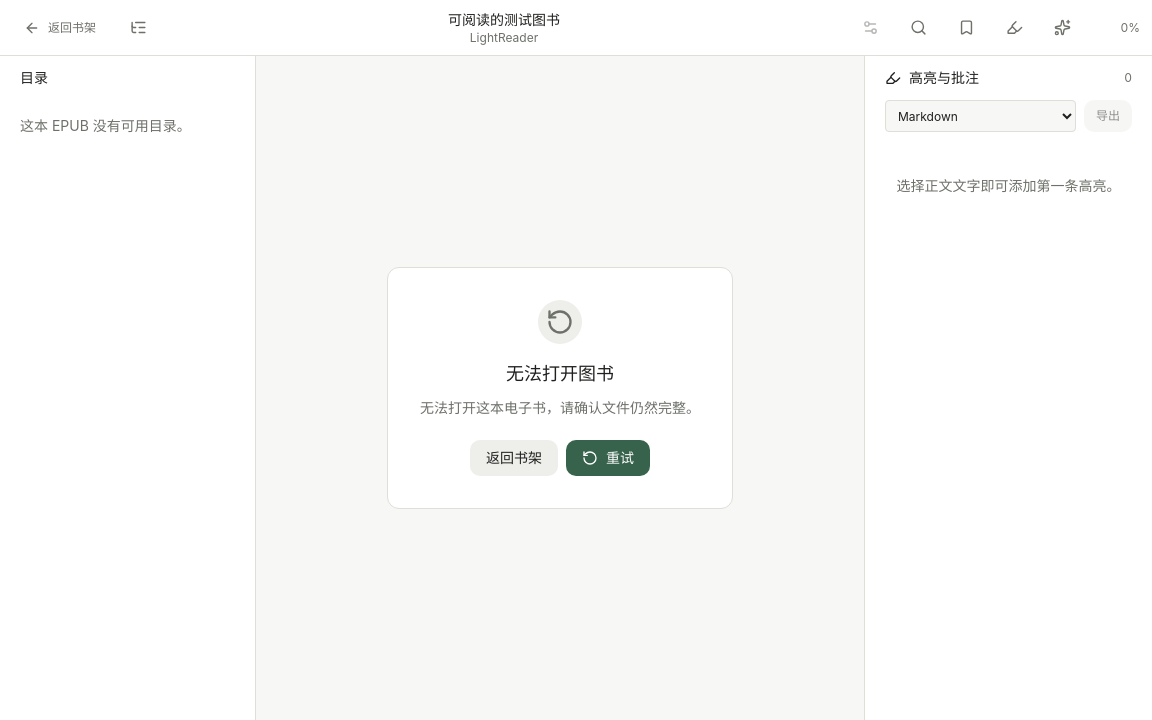
Test: ReaderPage › shows a friendly error and retries
Expected: the heading "无法打开图书" is shown, top-left (506, 360), bottom-right (614, 388)
What coordinates should you click on to do the following:
click the button "重试"
I would click on:
 (608, 458)
Its box is top-left (566, 440), bottom-right (650, 476).
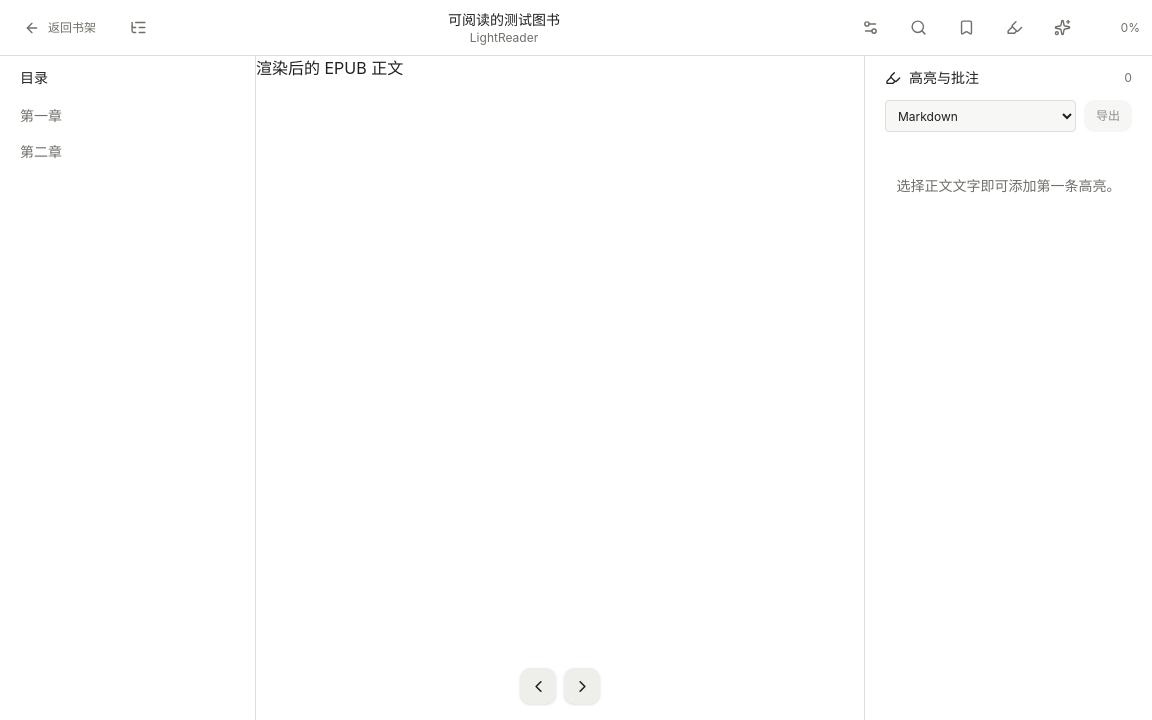
Result: the button "第一章" is shown at top-left (12, 100), bottom-right (243, 132)
